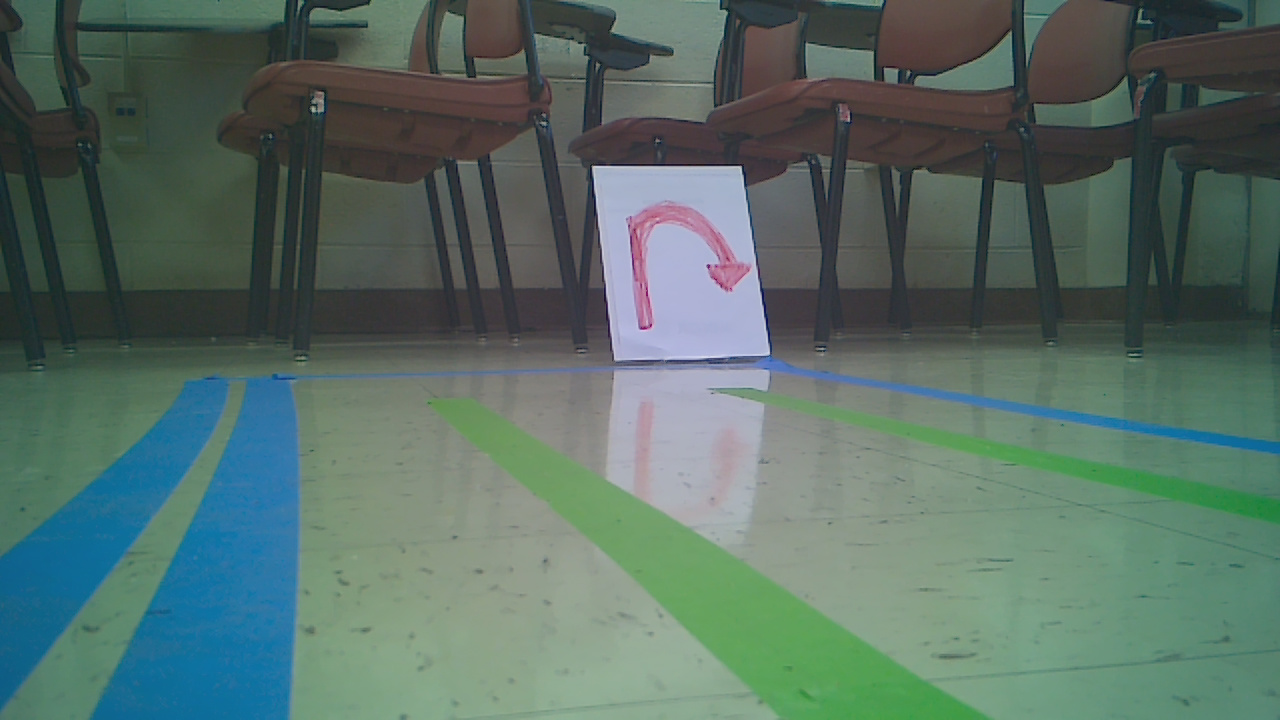greenline: (432, 397, 979, 720), (706, 388, 1275, 529)
uturn: (592, 166, 766, 358)
